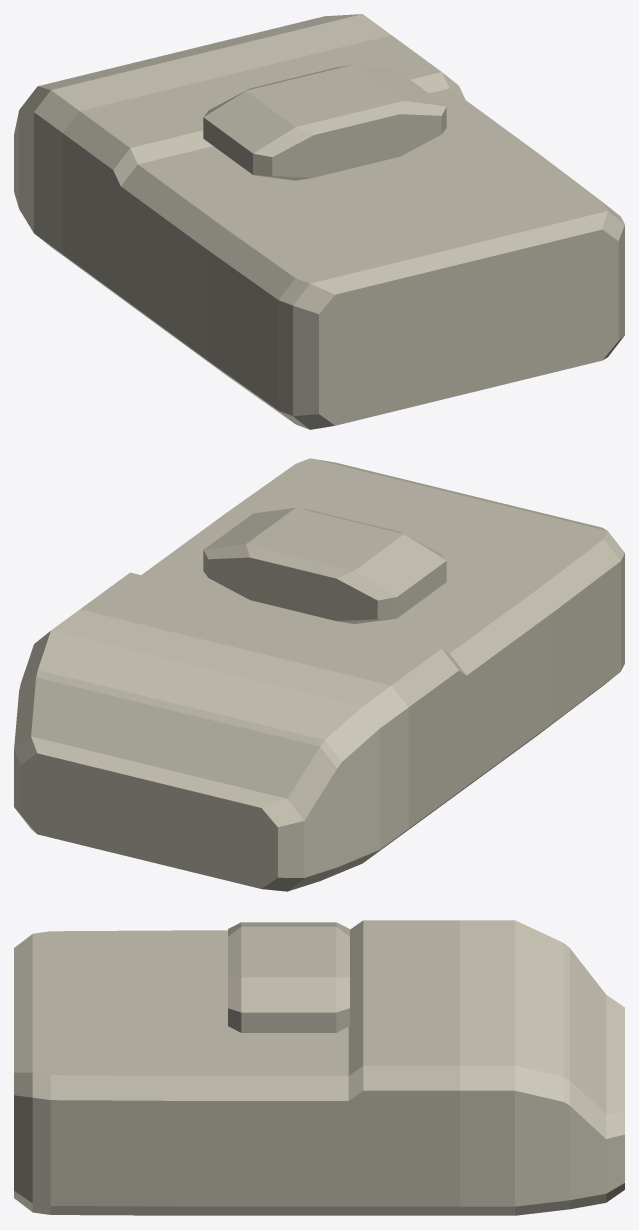
File: durham_oddball_a.glb
3 views of the same model, one above another, from view 1: azimuth 30°, elevation 25°; view 2: azimuth 150°, elevation 25°; view 3: azimuth 270°, elevation 25° (orthographic). The views are drawn at different scales.
Visible parts, largest first — view 1: durham_oddball_a; view 2: durham_oddball_a; view 3: durham_oddball_a.
Boxes of the visible parts, x1,y1,x2,y2 form: durham_oddball_a: (14,14,624,429); durham_oddball_a: (14,458,624,891); durham_oddball_a: (14,920,624,1215).
Size of the model in its own units: 4 by 2.21 by 6.4.
